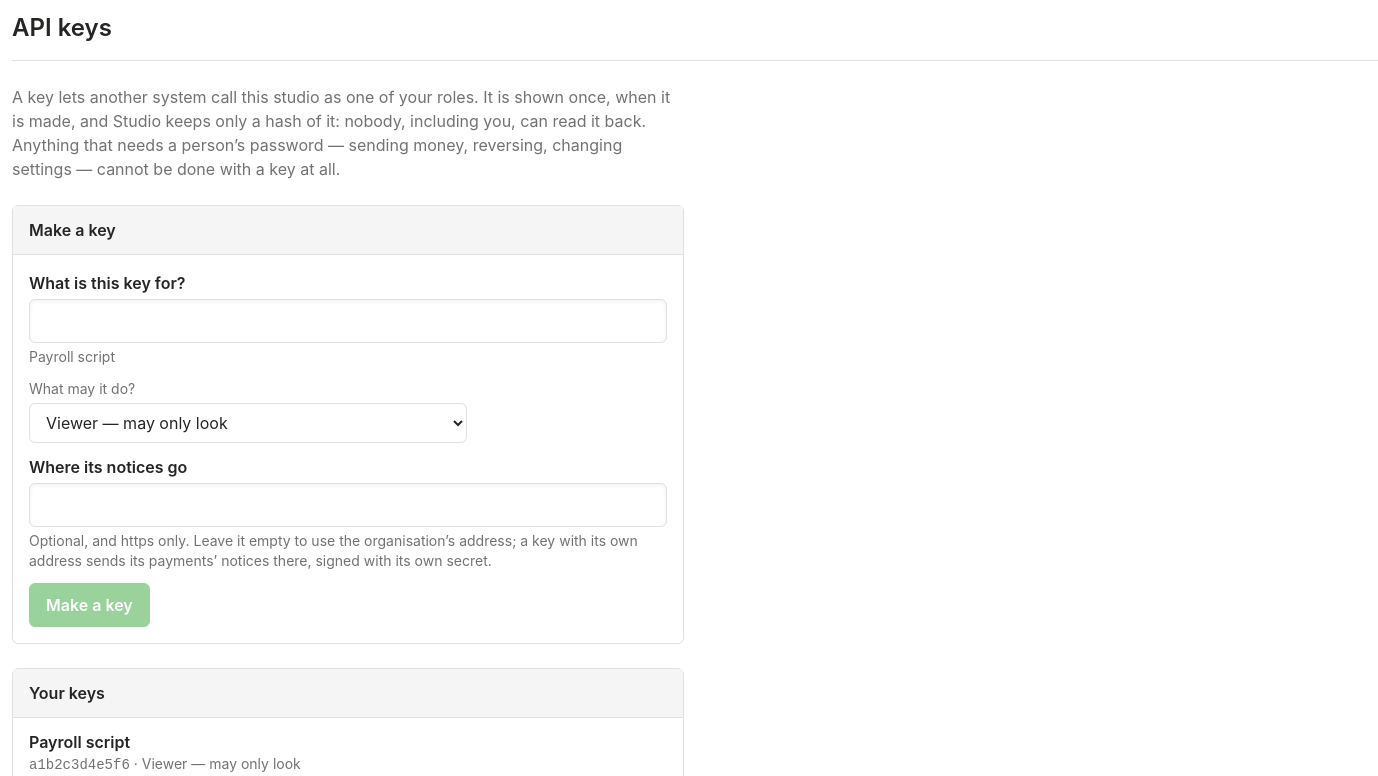
Test: API keys (phase E) › shows a new key once, and never again after Done
Expected: the list item with test id "key-k1" shows "a1b2c3d4e5f6", [29,757,130,773]
Type "Reporting" into the field labelled "What is this key for?" at x=348, y=321, box [29,299,667,343]
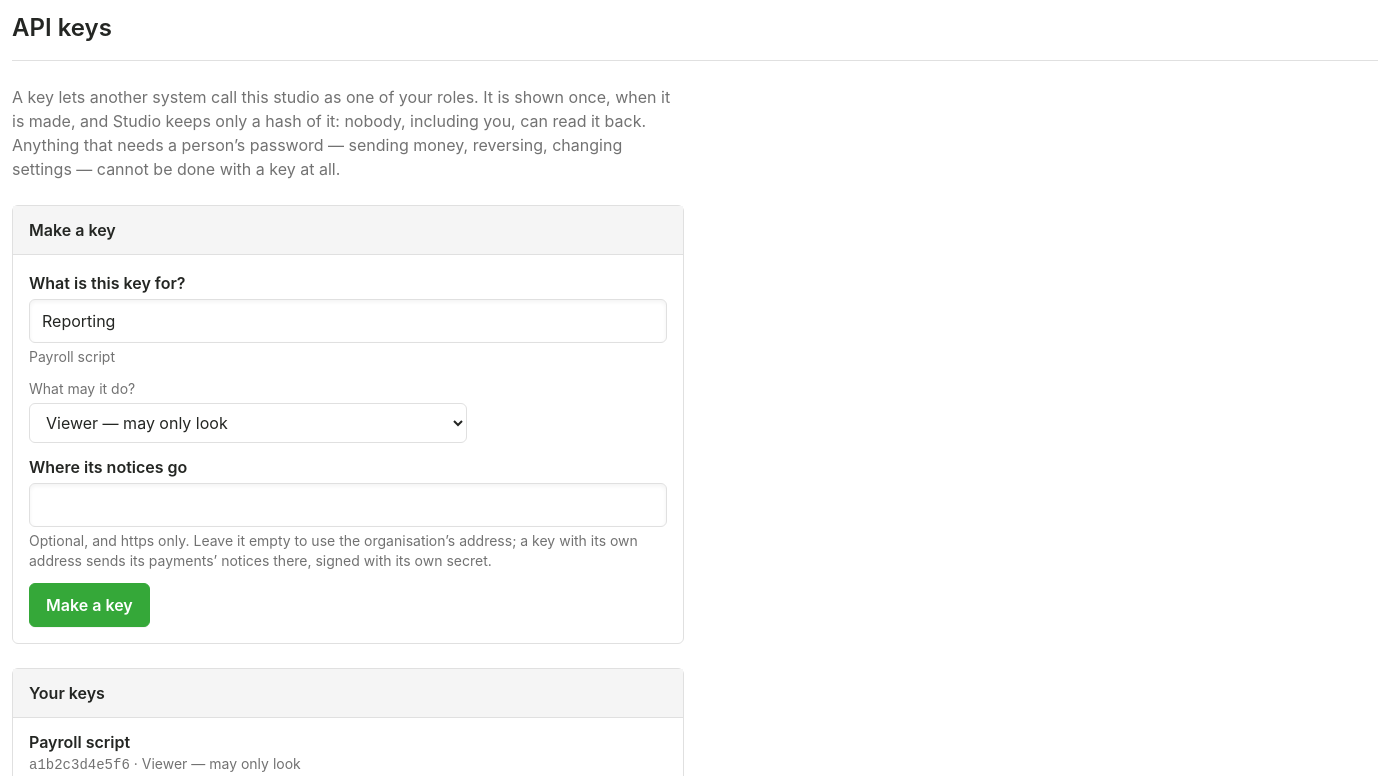
Select "Operator — may send and look" in the dropdown labelled "What may it do?" at x=248, y=423, box [29,403,467,443]
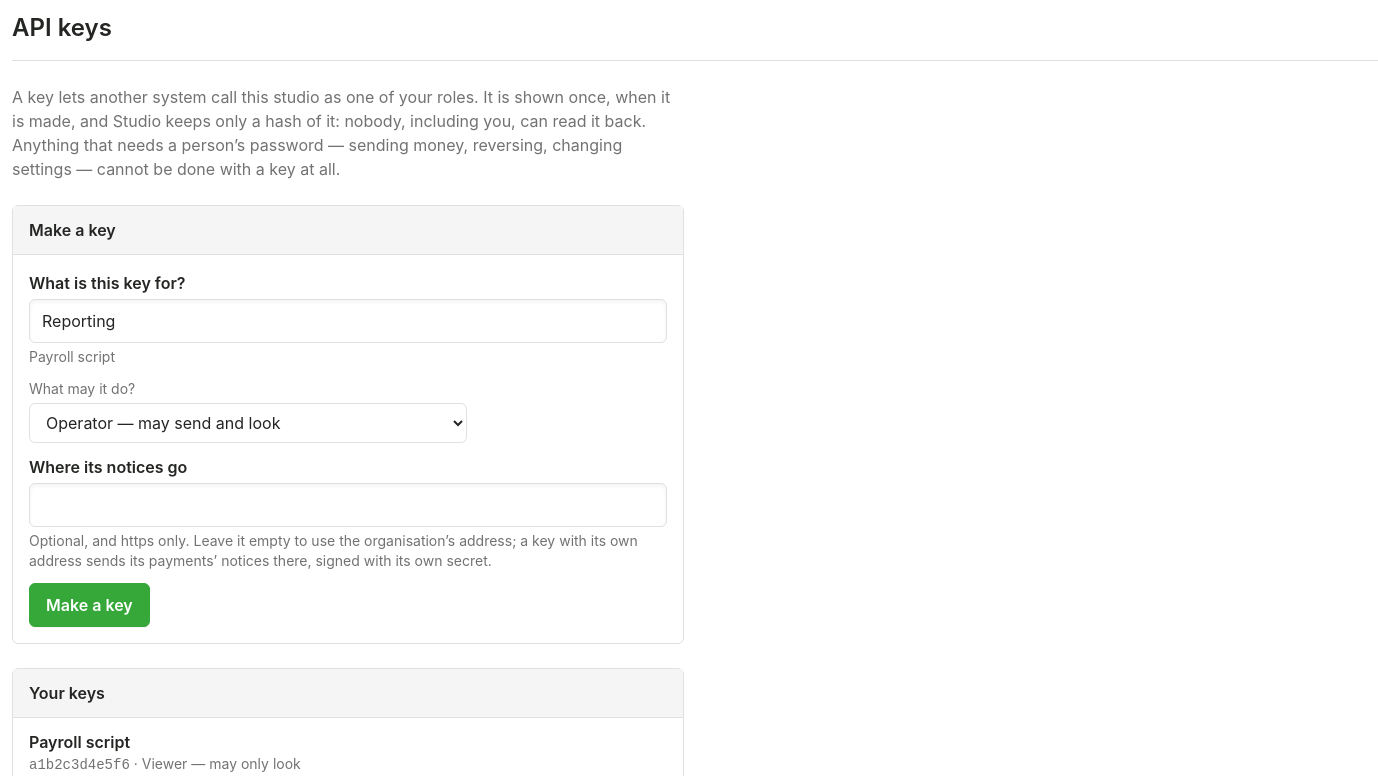
Click the button "Make a key" at x=89, y=605, box [29,583,150,627]
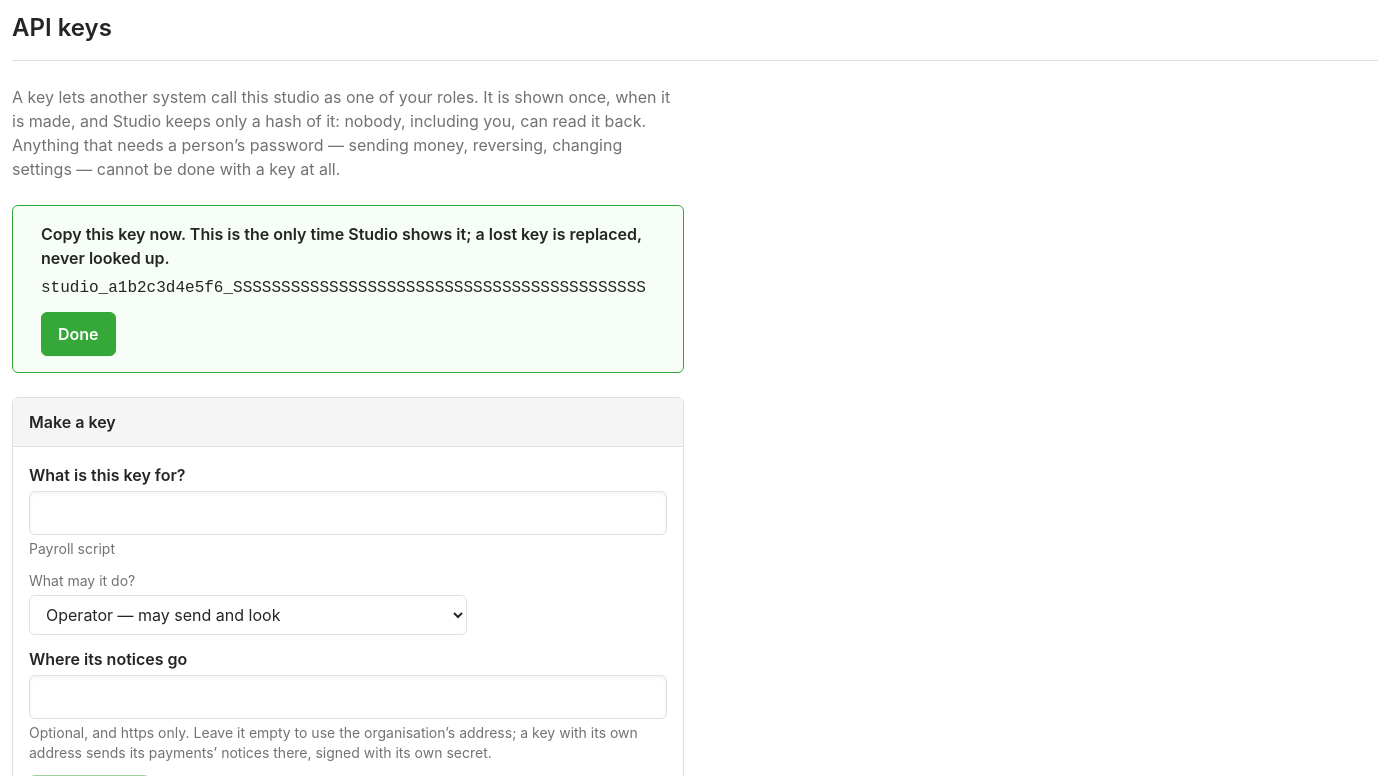
Expected: the message with test id "key-shown-once" shows "Copy this key now. This is the only time Studio shows it; a lost key is replaced, never looked up.", [41,224,642,268]
Click the button "Done" at x=78, y=334, box [41,312,116,356]
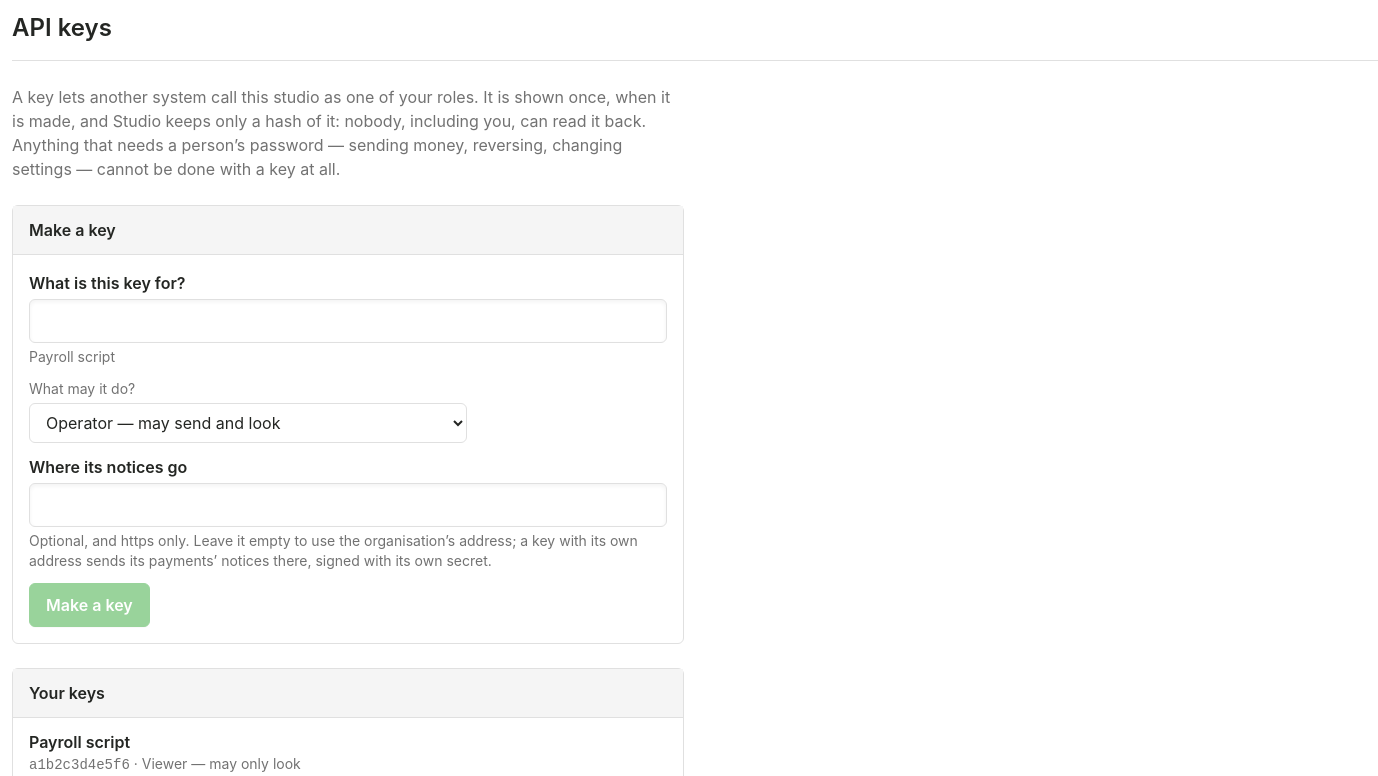
Expected: the message with test id "key-shown-once" is gone
